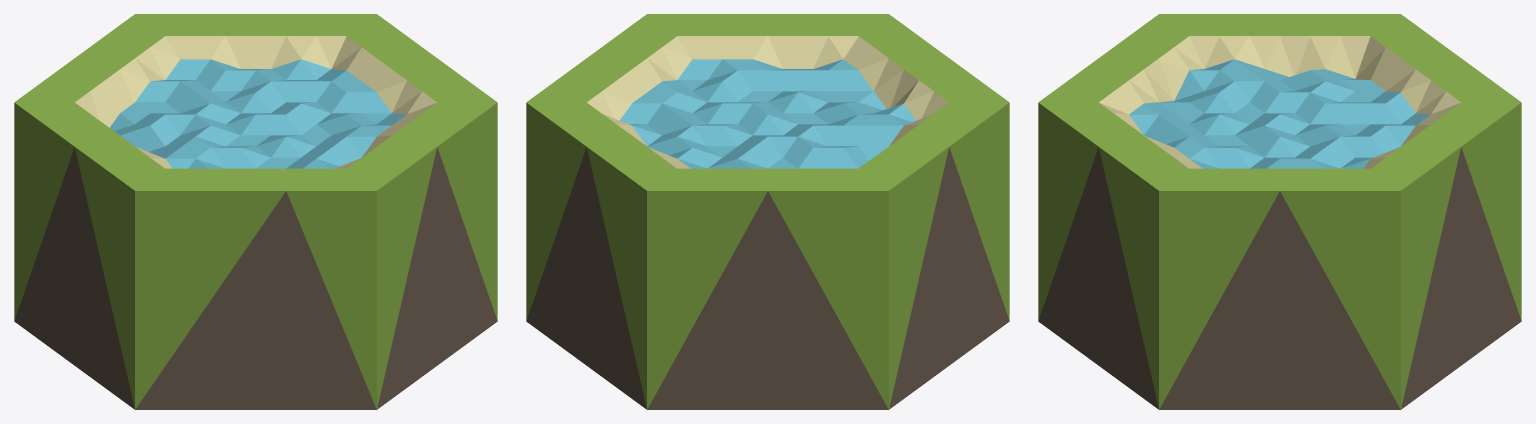
Rendered from lake.fbx.
The picture shows the model from 3 angles, left to right: view 1: azimuth 30°, elevation 25°; view 2: azimuth 150°, elevation 25°; view 3: azimuth 270°, elevation 25°; orthographic projection.
Parts seen in each view (by area): view 1: Cylinder; view 2: Cylinder; view 3: Cylinder.
Boxes of the visible parts, x1,y1,x2,y2 form: Cylinder: (14,14,497,409); Cylinder: (526,14,1009,409); Cylinder: (1038,14,1521,409).
Bounding box in the file's own units: 1.73 × 1 × 2.
